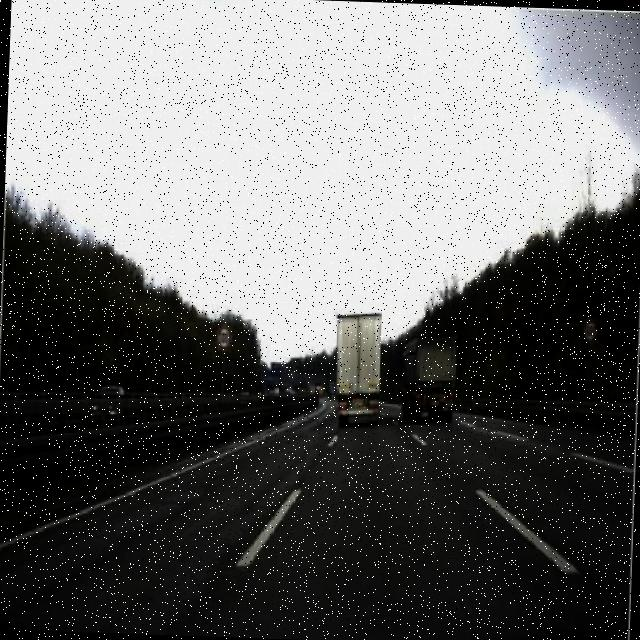Ograniczenie predkosci do 100: (580, 312, 600, 348), (214, 319, 234, 354)
